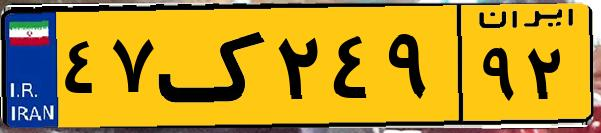2: (270, 28, 330, 110), (525, 38, 570, 115)
4: (330, 28, 385, 110), (57, 26, 110, 100)
7: (110, 28, 158, 98)
9: (385, 28, 445, 110), (475, 38, 525, 113)
ک: (158, 12, 270, 120)
